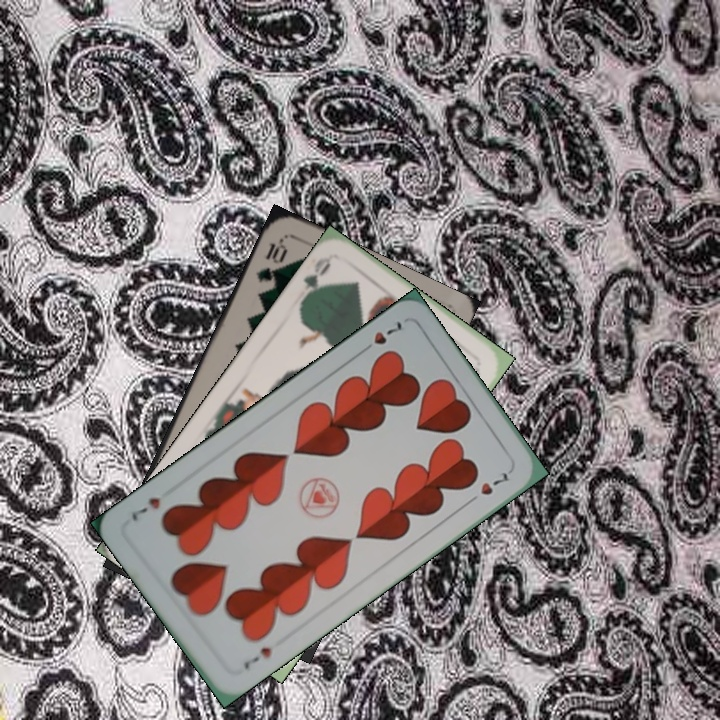G10: (251, 235, 290, 286)
GO: (296, 253, 334, 309)
H7: (356, 317, 405, 357), (239, 643, 274, 672)
